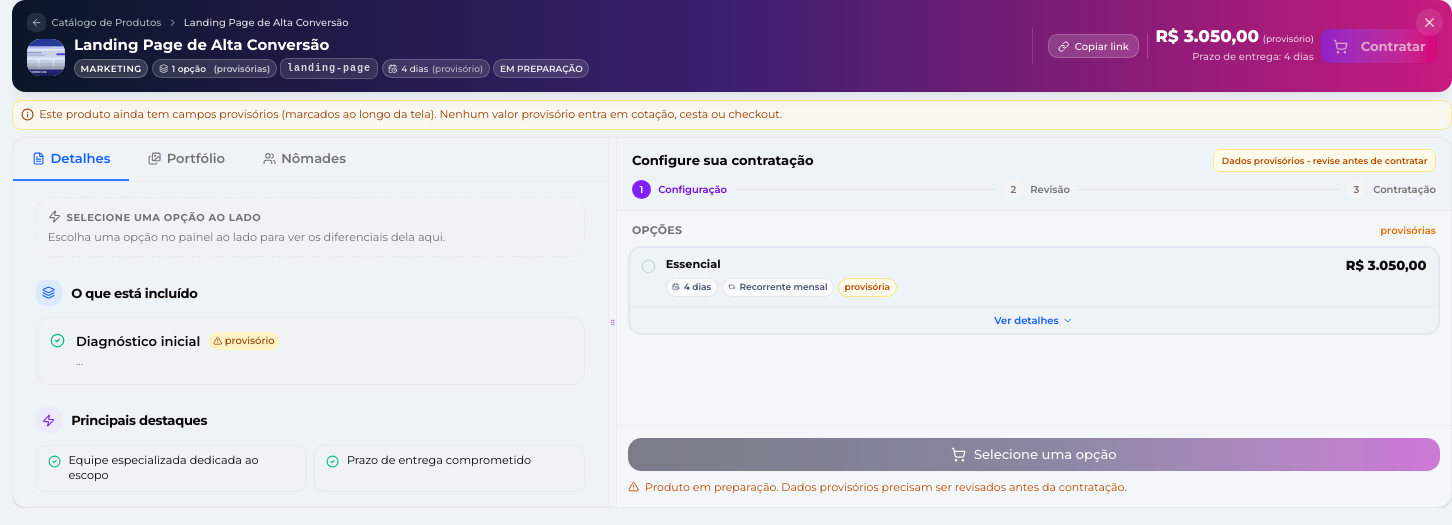
Catalog2ProductDetail — dado provisório › aba Nômades nunca inventa profissionais elegíveis — mostra 'a definir'
Click the tab "Nômades" at (304, 160), box x1=244 y1=138 x2=365 y2=181
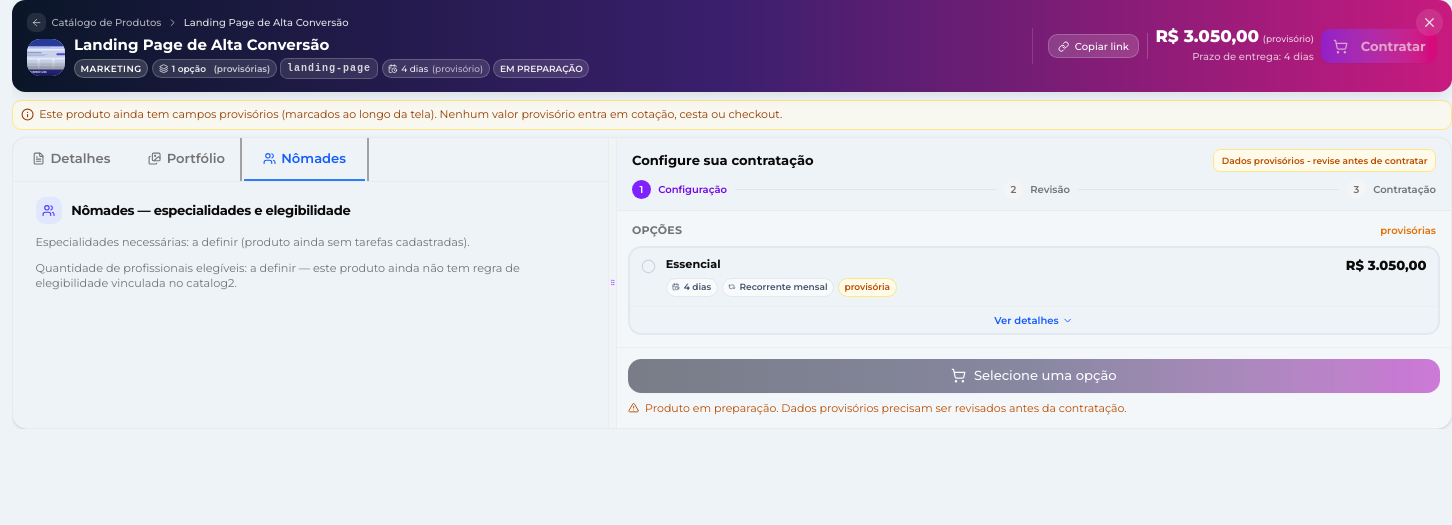
expect the text "a definir" is shown: met, box x1=36 y1=235 x2=470 y2=249
